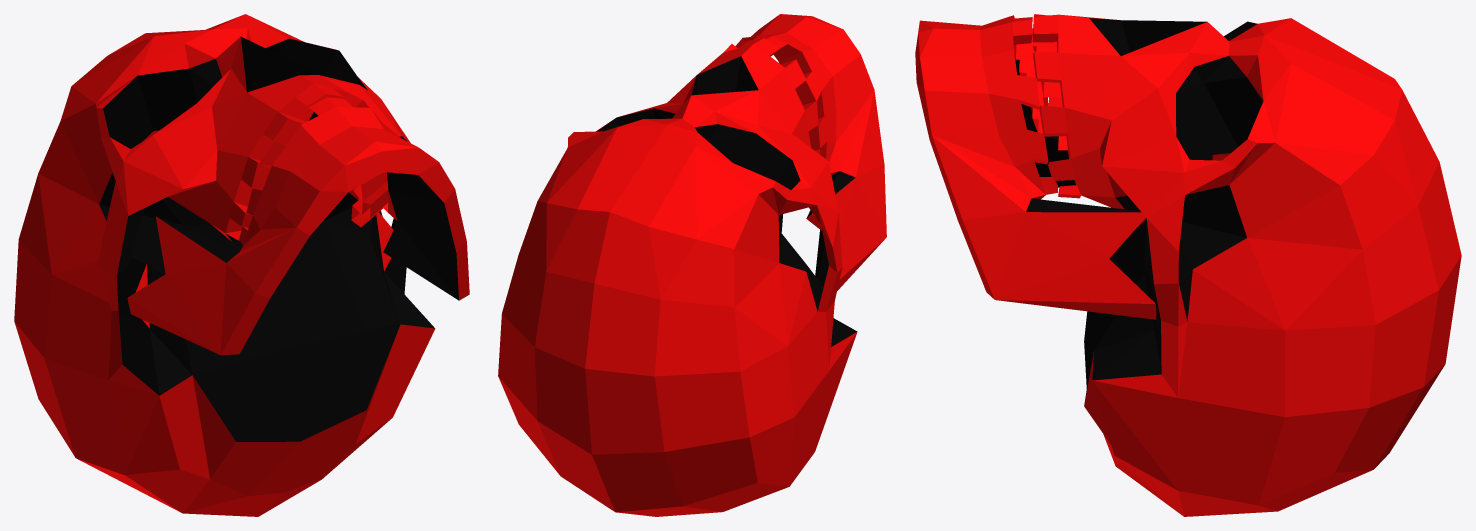
The model's file is scull.fbx.
The picture shows the model from 3 angles, left to right: view 1: azimuth 30°, elevation 25°; view 2: azimuth 150°, elevation 25°; view 3: azimuth 270°, elevation 25°; orthographic projection. The views are drawn at different scales.
Parts seen in each view (by area): view 1: Cube; view 2: Cube; view 3: Cube.
Boxes of the visible parts, bbox=[...] form: Cube: bbox=[14, 14, 469, 516]; Cube: bbox=[498, 14, 886, 516]; Cube: bbox=[915, 14, 1461, 516].
Size of the model in its own units: 0.6797 by 0.9717 by 0.9941.
